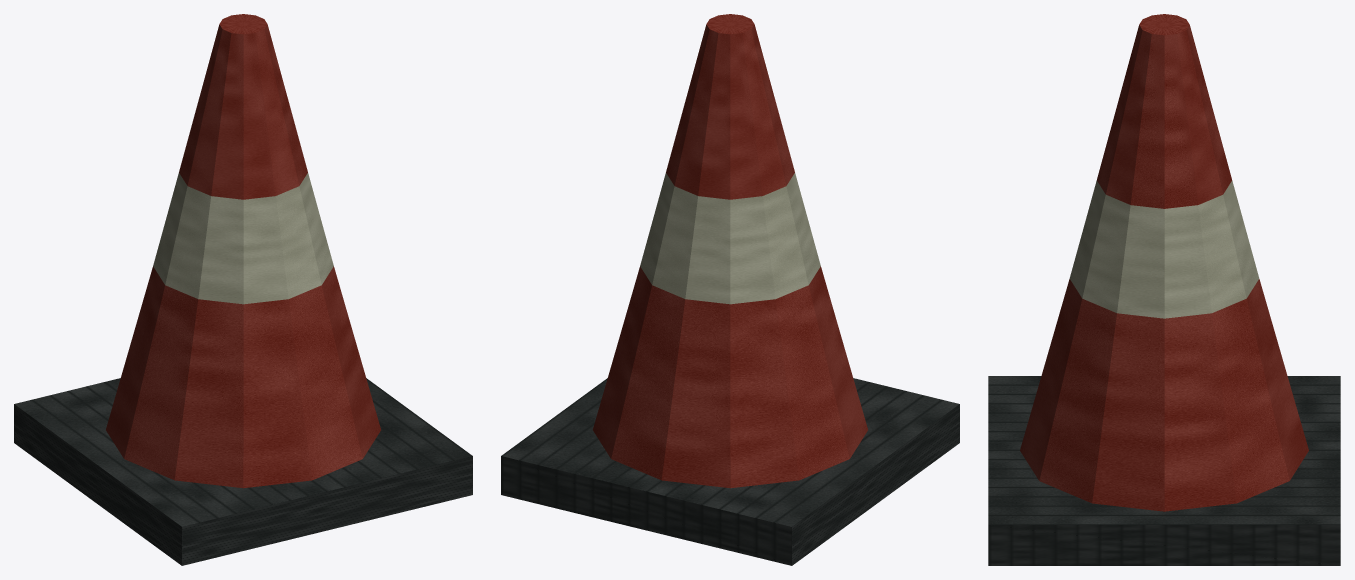
Rendered from TrafficCone.obj.
The picture shows the model from 3 angles, left to right: view 1: azimuth 30°, elevation 25°; view 2: azimuth 150°, elevation 25°; view 3: azimuth 270°, elevation 25°; orthographic projection. The views are drawn at different scales.
Visible parts, largest first — view 1: TrafficCone; view 2: TrafficCone; view 3: TrafficCone.
Part boxes in pixels (bbox=[...]): TrafficCone: bbox=[14, 14, 472, 565]; TrafficCone: bbox=[501, 14, 959, 565]; TrafficCone: bbox=[988, 14, 1340, 565].
Size of the model in its own units: 0.39 by 0.57 by 0.39.
Materials: 3 (3 with a texture image).
